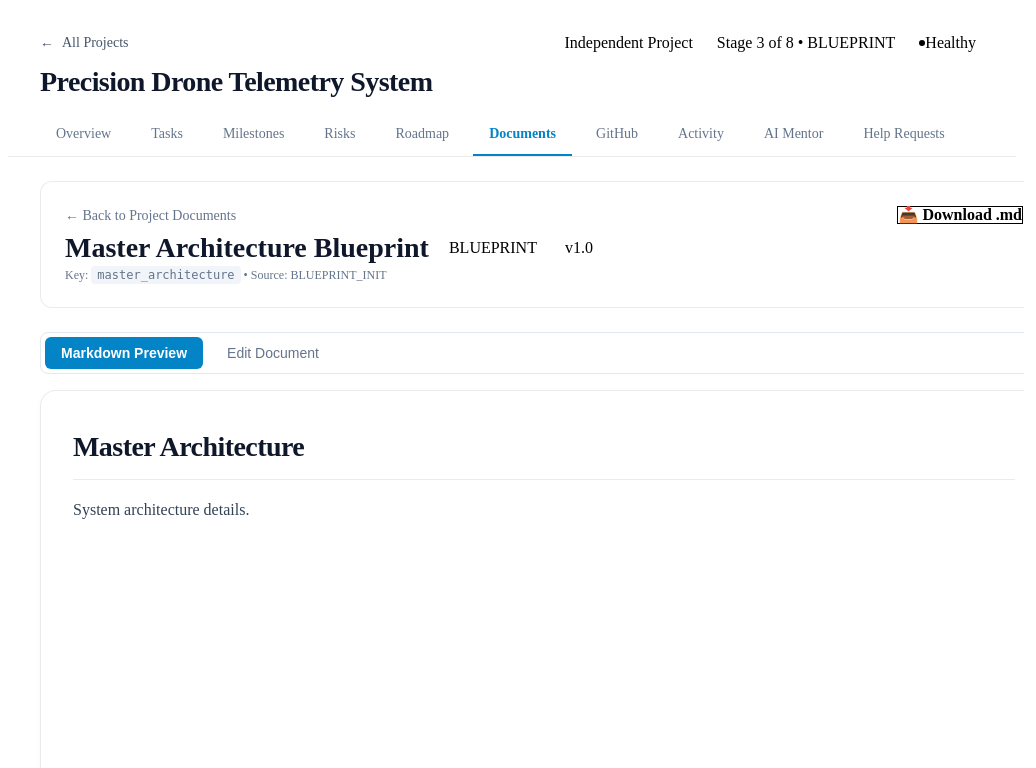
Test: Batch 5 Execution Management Components (S18–S26) › renders S26 document detail and switches between preview and edit mode
Expected: the heading "Master Architecture Blueprint" is shown, 65,232 -> 429,264
Expected: the text "System architecture details." is shown, 73,501 -> 249,518
Switch to edit mode
Click the tab "Edit Document". click: (273, 353)
box: 211,337 -> 335,369
(page scrolled)
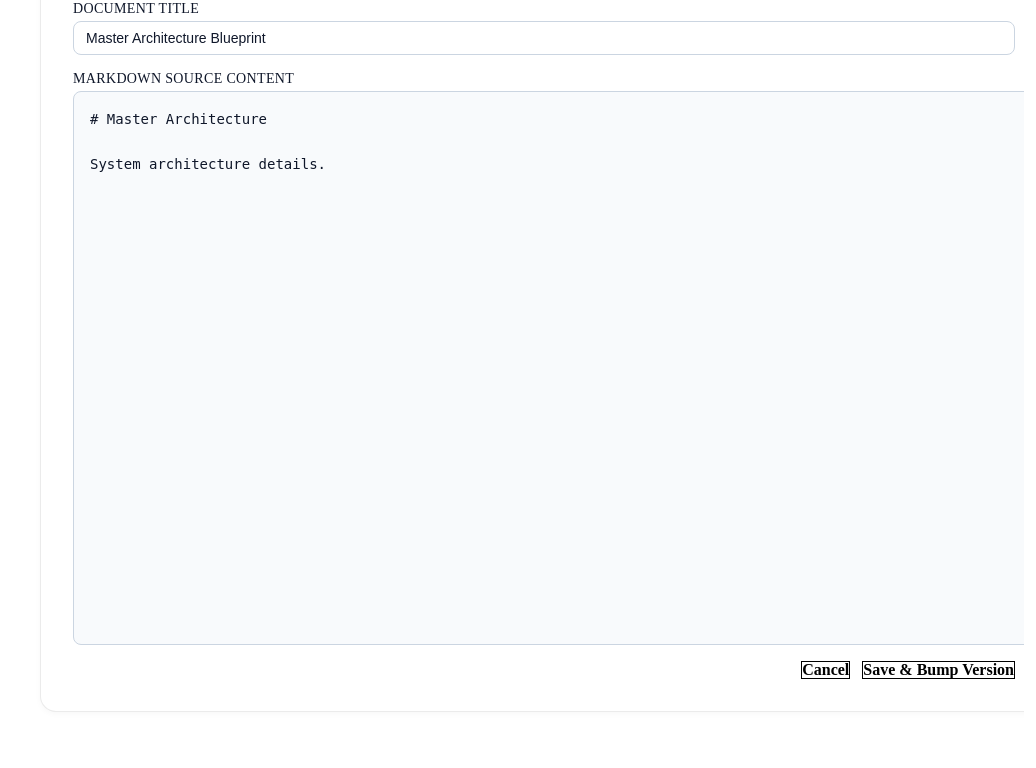
Expected: the button "Save & Bump Version" is shown, 862,661 -> 1015,679
